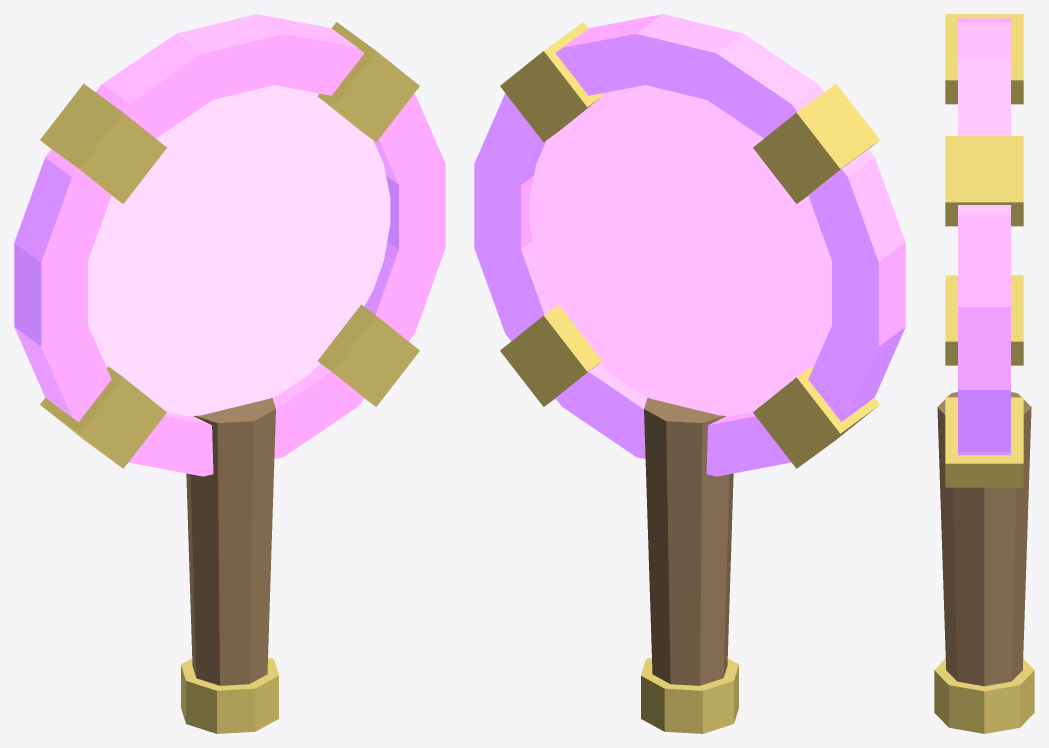
Rendered from rift_to_go.glb.
The picture shows the model from 3 angles, left to right: view 1: azimuth 30°, elevation 25°; view 2: azimuth 150°, elevation 25°; view 3: azimuth 270°, elevation 25°; orthographic projection.
Parts seen in each view (by area): view 1: RiftToGo; view 2: RiftToGo; view 3: RiftToGo.
Boxes of the visible parts, x1,y1,x2,y2 form: RiftToGo: (14,14,445,733); RiftToGo: (474,14,905,733); RiftToGo: (934,14,1034,733).
Bounding box in the file's own units: 0.2941 × 0.472 × 0.064.
